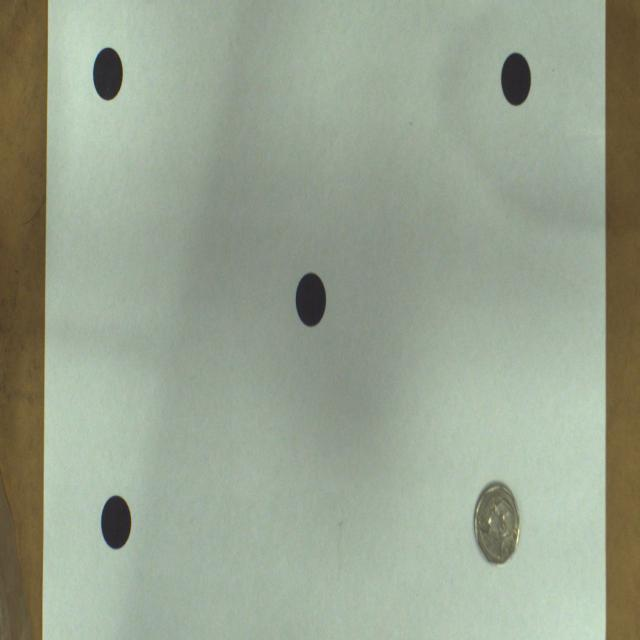head5bath: (474, 482, 520, 564)
space: (296, 273, 326, 327), (92, 47, 122, 100), (101, 496, 131, 549), (501, 53, 531, 104)
